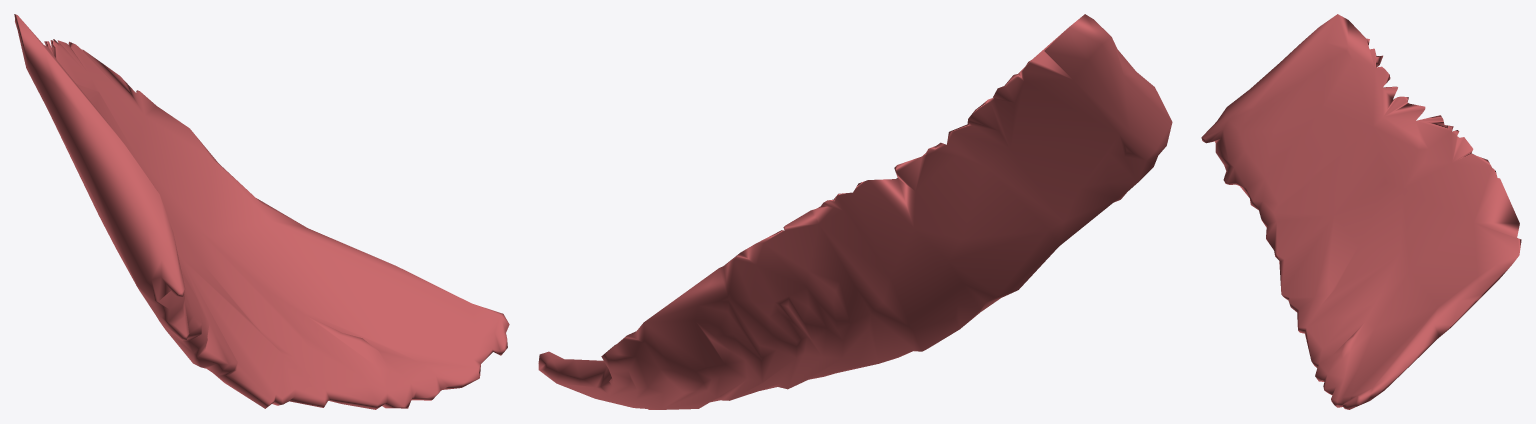
The picture shows the model from 3 angles, left to right: view 1: azimuth 30°, elevation 25°; view 2: azimuth 150°, elevation 25°; view 3: azimuth 270°, elevation 25°; orthographic projection. The views are drawn at different scales.
Visible parts, largest first — view 1: 右侧降下唇肌; view 2: 右侧降下唇肌; view 3: 右侧降下唇肌.
Boxes of the visible parts, box(x1,y1,x2,y2) form: 右侧降下唇肌: box(14, 14, 509, 409); 右侧降下唇肌: box(538, 14, 1172, 409); 右侧降下唇肌: box(1201, 14, 1521, 409).
Size of the model in its own units: 0.0451 by 0.0402 by 0.0435.
